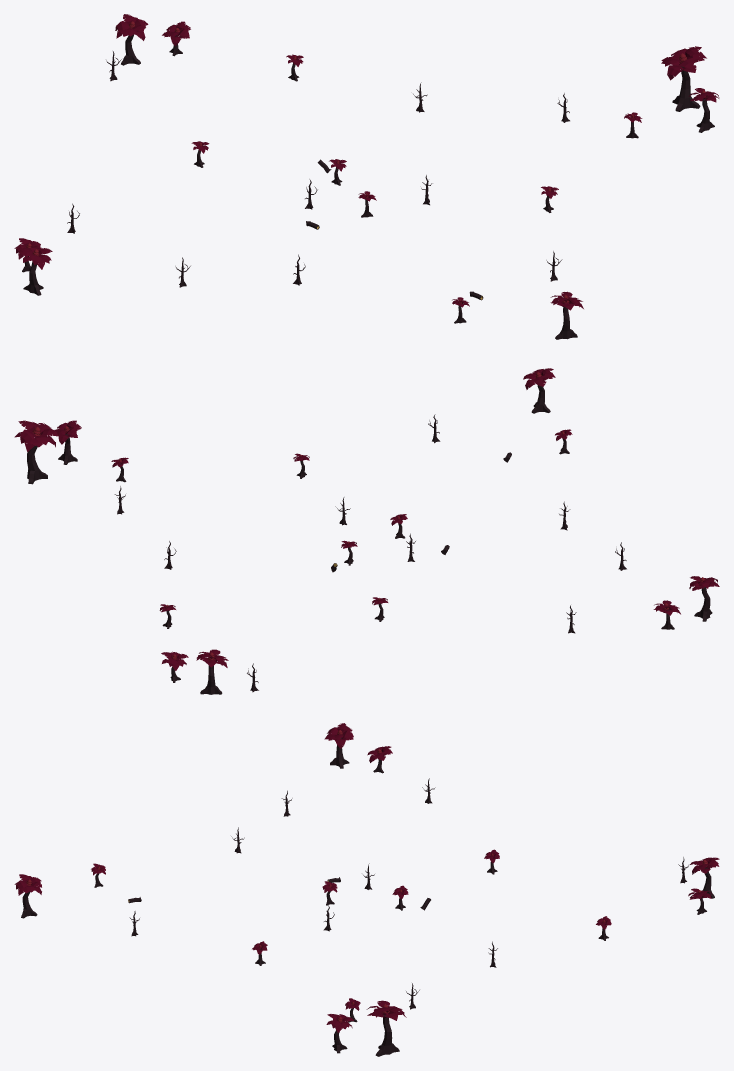
Rendered from tree-s2.fbx.
The picture shows the model from 3 angles, top to bottom: view 1: azimuth 30°, elevation 25°; view 2: azimuth 150°, elevation 25°; view 3: azimuth 270°, elevation 25°; orthographic projection. The views are drawn at different scales.
Visible parts, largest first — view 1: Plane.125, Cylinder.091, Plane.131; view 2: Plane.125; view 3: no part large enough to name.
Part boxes in pixels (box(x1,y1,x2,y2)): Plane.125: box(661, 46, 706, 80); Cylinder.091: box(672, 66, 700, 111); Plane.131: box(115, 14, 148, 40); Plane.125: box(14, 420, 58, 451).
Bounding box in the file's own units: 325 × 25.34 × 323.
